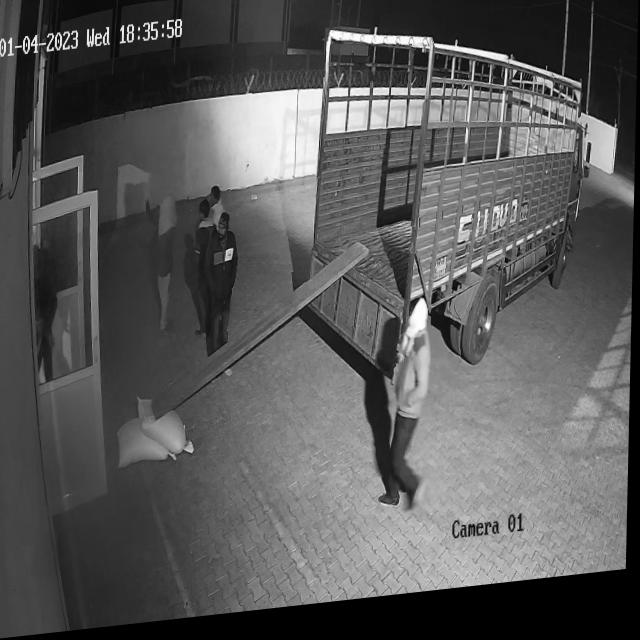sack: (137, 393, 197, 462), (119, 416, 179, 469)
